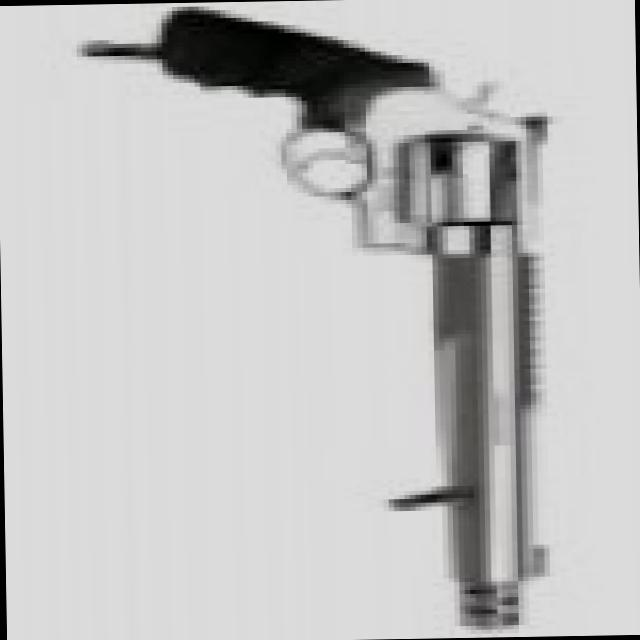handgun: (170, 0, 582, 627)
